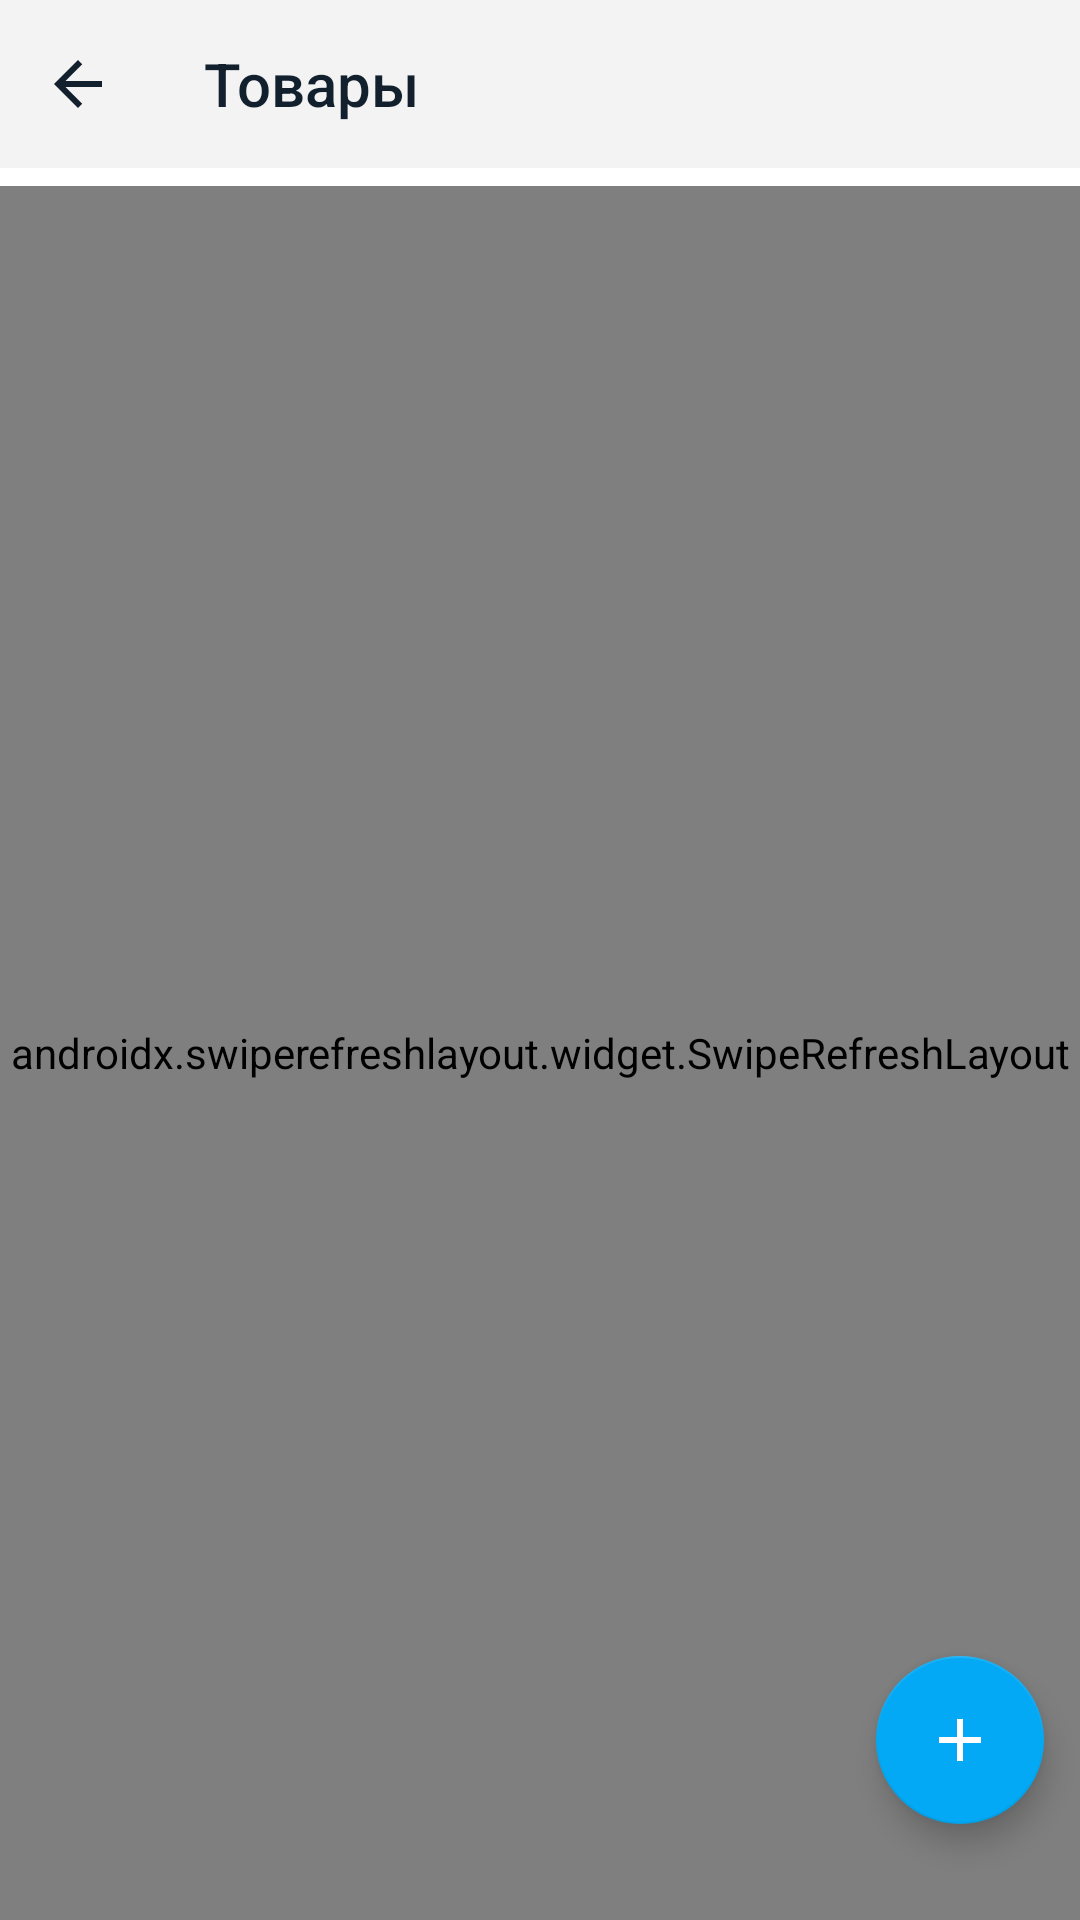

Where icons sit on this 1080 x 1920 app screen, as box(x1, y1, x2, y2):
add plus: box(876, 1656, 1044, 1824)
arrback: box(54, 60, 102, 108)
